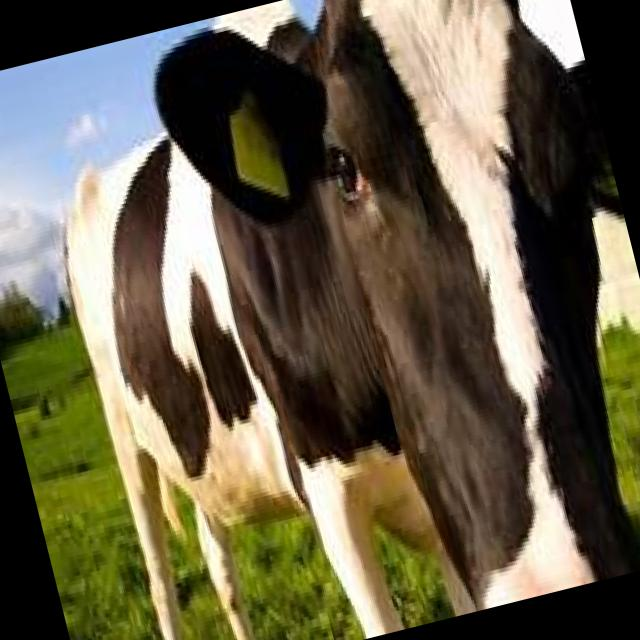animal: (11, 0, 640, 640)
